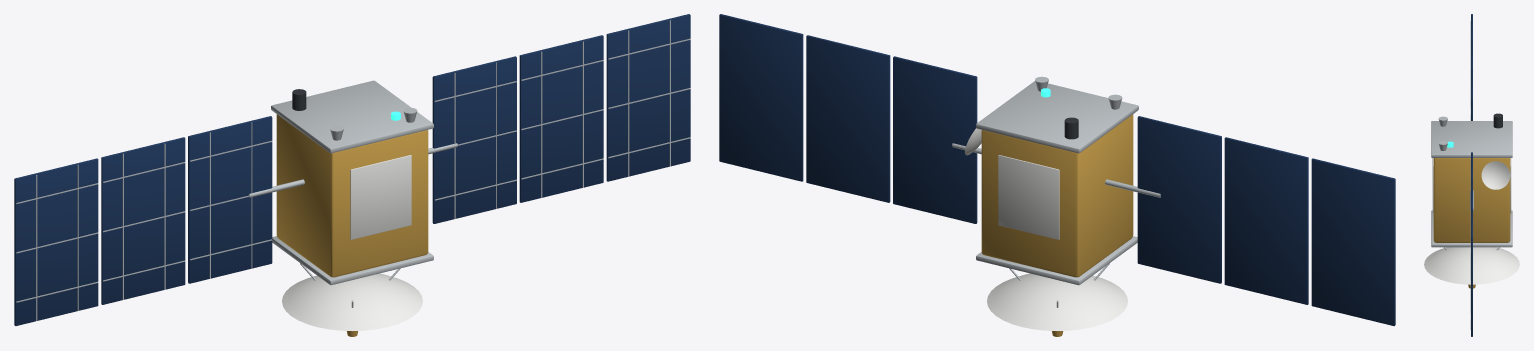
Rendered from 通訊衛星.glb.
3 views of the same model, side by side, from view 1: azimuth 30°, elevation 25°; view 2: azimuth 150°, elevation 25°; view 3: azimuth 270°, elevation 25° (orthographic). The views are drawn at different scales.
Parts seen in each view (by area): view 1: 衛星｜太陽能電池翼左, 衛星｜太陽能電池翼右, 衛星｜主體平台, 衛星｜頂部平台, 衛星｜拋物面天線, 衛星｜散熱板, 衛星｜電池翼格線左, 衛星｜電池翼格線右, 衛星｜底部平台; view 2: 衛星｜太陽能電池翼左, 衛星｜太陽能電池翼右, 衛星｜主體平台, 衛星｜頂部平台, 衛星｜拋物面天線, 衛星｜散熱板.001, 衛星｜底部平台; view 3: 衛星｜主體平台, 衛星｜拋物面天線, 衛星｜頂部平台, 衛星｜側向小天線, 衛星｜底部平台, 衛星｜太陽能電池翼右, 衛星｜太陽能電池翼左, 衛星｜電池翼格線右, 衛星｜星追蹤儀, 衛星｜散熱板, 衛星｜散熱板.001, 衛星｜電池翼格線左.
Part boxes in pixels (<box>): 衛星｜太陽能電池翼左: <box>14,116,272,325</box>; 衛星｜太陽能電池翼右: <box>432,14,690,223</box>; 衛星｜主體平台: <box>276,114,428,277</box>; 衛星｜頂部平台: <box>271,80,433,153</box>; 衛星｜拋物面天線: <box>282,273,422,330</box>; 衛星｜散熱板: <box>350,155,411,239</box>; 衛星｜電池翼格線左: <box>16,122,272,321</box>; 衛星｜電池翼格線右: <box>434,20,690,218</box>; 衛星｜底部平台: <box>272,236,433,285</box>; 衛星｜太陽能電池翼左: <box>1137,116,1395,325</box>; 衛星｜太陽能電池翼右: <box>719,14,977,223</box>; 衛星｜主體平台: <box>981,114,1133,277</box>; 衛星｜頂部平台: <box>976,81,1138,153</box>; 衛星｜拋物面天線: <box>987,273,1127,330</box>; 衛星｜散熱板.001: <box>998,155,1059,239</box>; 衛星｜底部平台: <box>976,236,1137,285</box>; 衛星｜主體平台: <box>1433,158,1510,242</box>; 衛星｜拋物面天線: <box>1424,247,1519,284</box>; 衛星｜頂部平台: <box>1431,121,1512,157</box>; 衛星｜側向小天線: <box>1481,161,1510,189</box>; 衛星｜底部平台: <box>1431,210,1512,247</box>; 衛星｜太陽能電池翼右: <box>1471,152,1472,336</box>; 衛星｜太陽能電池翼左: <box>1471,14,1472,120</box>; 衛星｜電池翼格線右: <box>1470,159,1470,329</box>; 衛星｜星追蹤儀: <box>1493,113,1502,128</box>; 衛星｜散熱板: <box>1432,158,1433,213</box>; 衛星｜散熱板.001: <box>1510,158,1511,213</box>; 衛星｜電池翼格線左: <box>1470,21,1470,120</box>.
Bounding box in the file's own units: 11.04 × 3.72 × 2.
